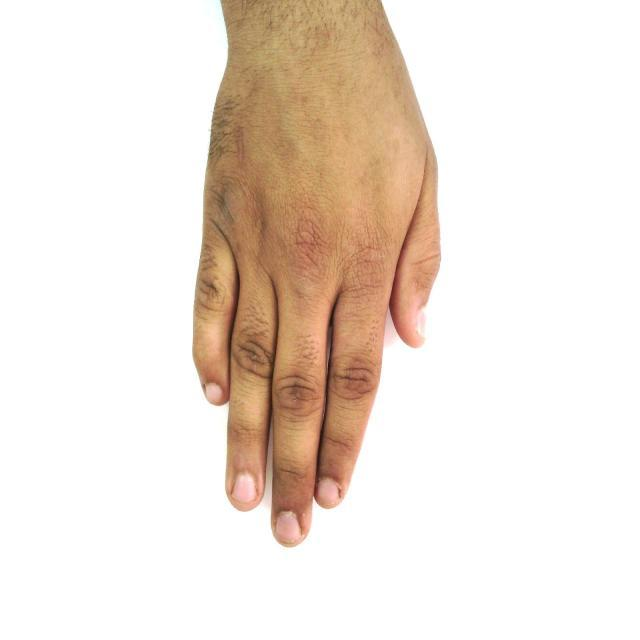Fingernail: (276, 512, 301, 544), (233, 474, 258, 503), (317, 480, 339, 506), (205, 383, 223, 403), (418, 309, 426, 336)
